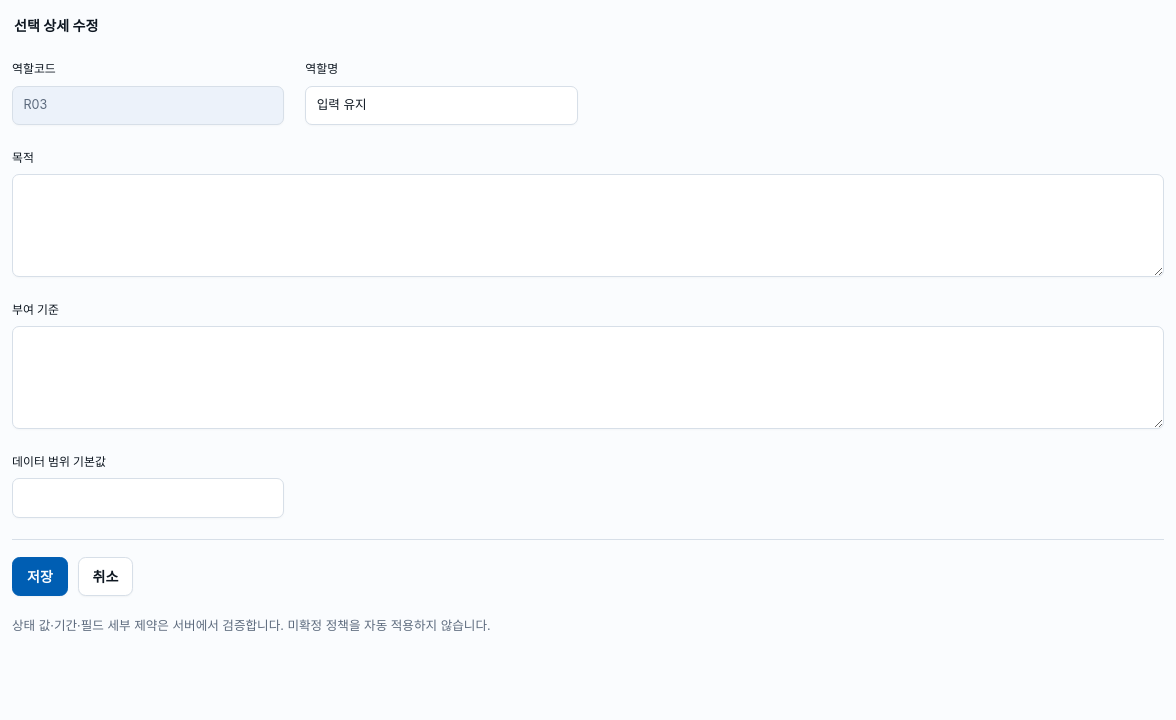
Test case: 저장과 상태 › 서버 필드 오류는 초안을 유지하고 재조회 성공으로 표시하지 않는다
Click the button "저장".
click(40, 577)  # box [12,557,68,596]
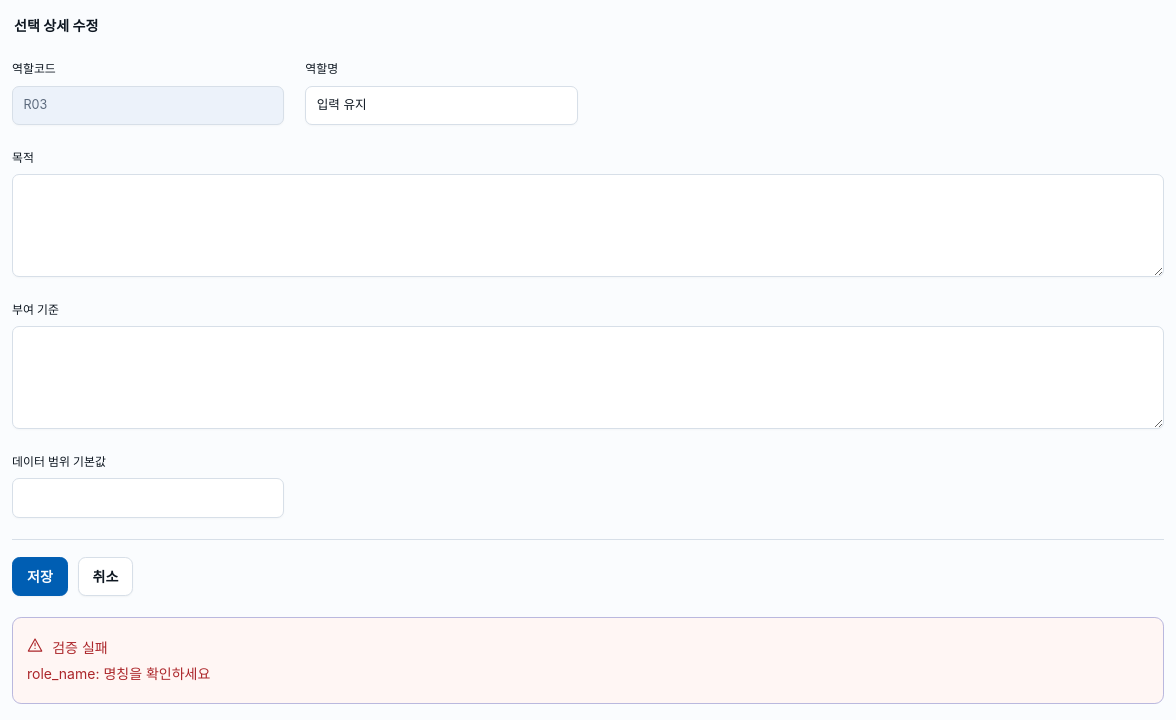
Expected: the field labelled "역할명" holds "입력 유지", [305,86,578,125]
Expected: the message shows "명칭을 확인하세요", [103,665,210,682]
